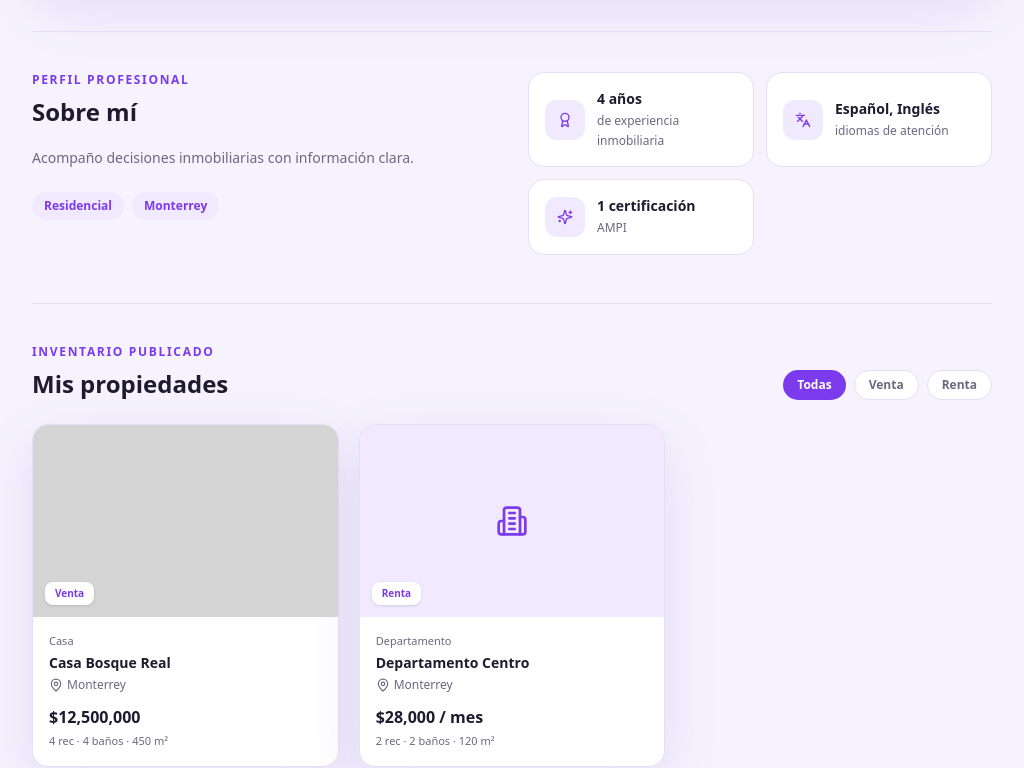
Test: MicrositioPublico › filtra el inventario con controles accesibles
(page scrolled)
Expected: the heading "Casa Bosque Real" is shown, [49,653,171,672]
Step 1. Click the button "Renta" → (959, 384), box [927,370,992,400]
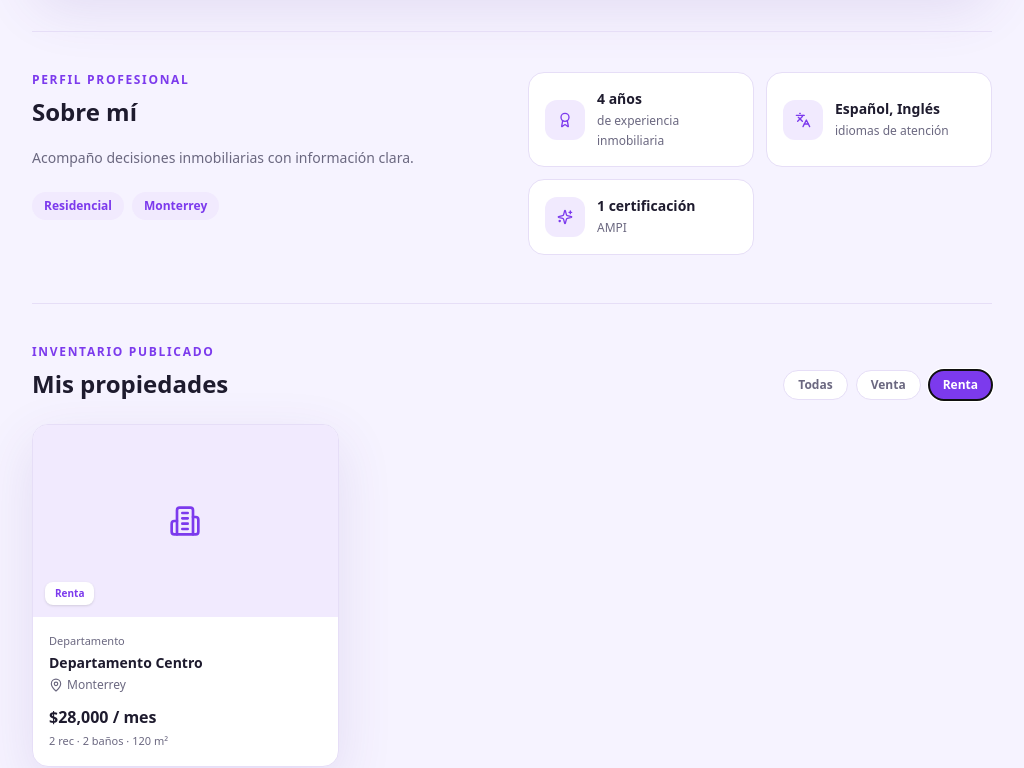
Expected: the heading "Departamento Centro" is shown, [49,653,203,672]
Expected: the link "Casa Bosque Real" is gone
